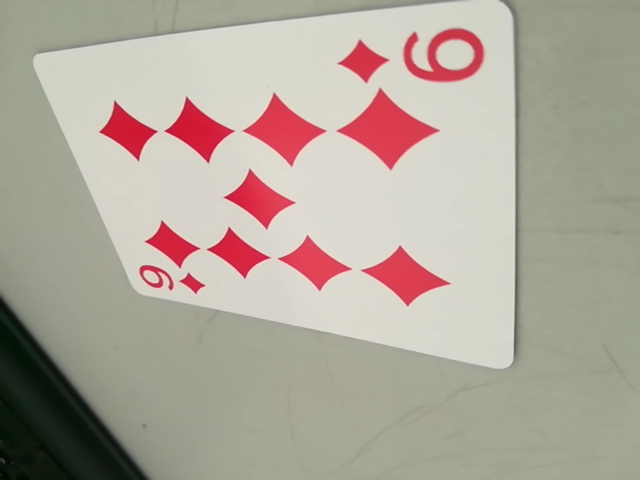fk 9: (341, 18, 493, 98), (132, 260, 213, 301)
